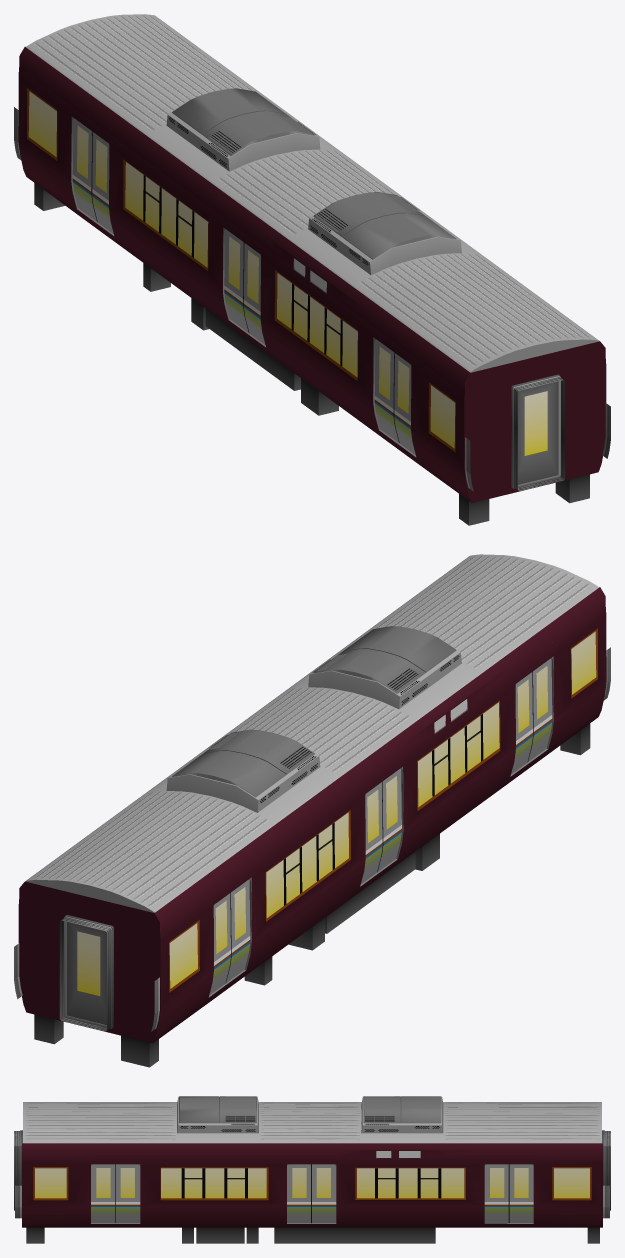
3 views of the same model, one above another, from view 1: azimuth 30°, elevation 25°; view 2: azimuth 150°, elevation 25°; view 3: azimuth 270°, elevation 25° (orthographic). The views are drawn at different scales.
Parts seen in each view (by area): view 1: Wnd_Flash; view 2: Wnd_Flash; view 3: Wnd_Flash.
Boxes of the visible parts, left/top/right/bottom form: Wnd_Flash: left=14, top=14, right=610, bottom=525; Wnd_Flash: left=14, top=554, right=610, bottom=1067; Wnd_Flash: left=14, top=1096, right=610, bottom=1243.
Bounding box in the file's own units: 7.04 × 8.88 × 39.12.
Materials: 28 (27 with a texture image).
